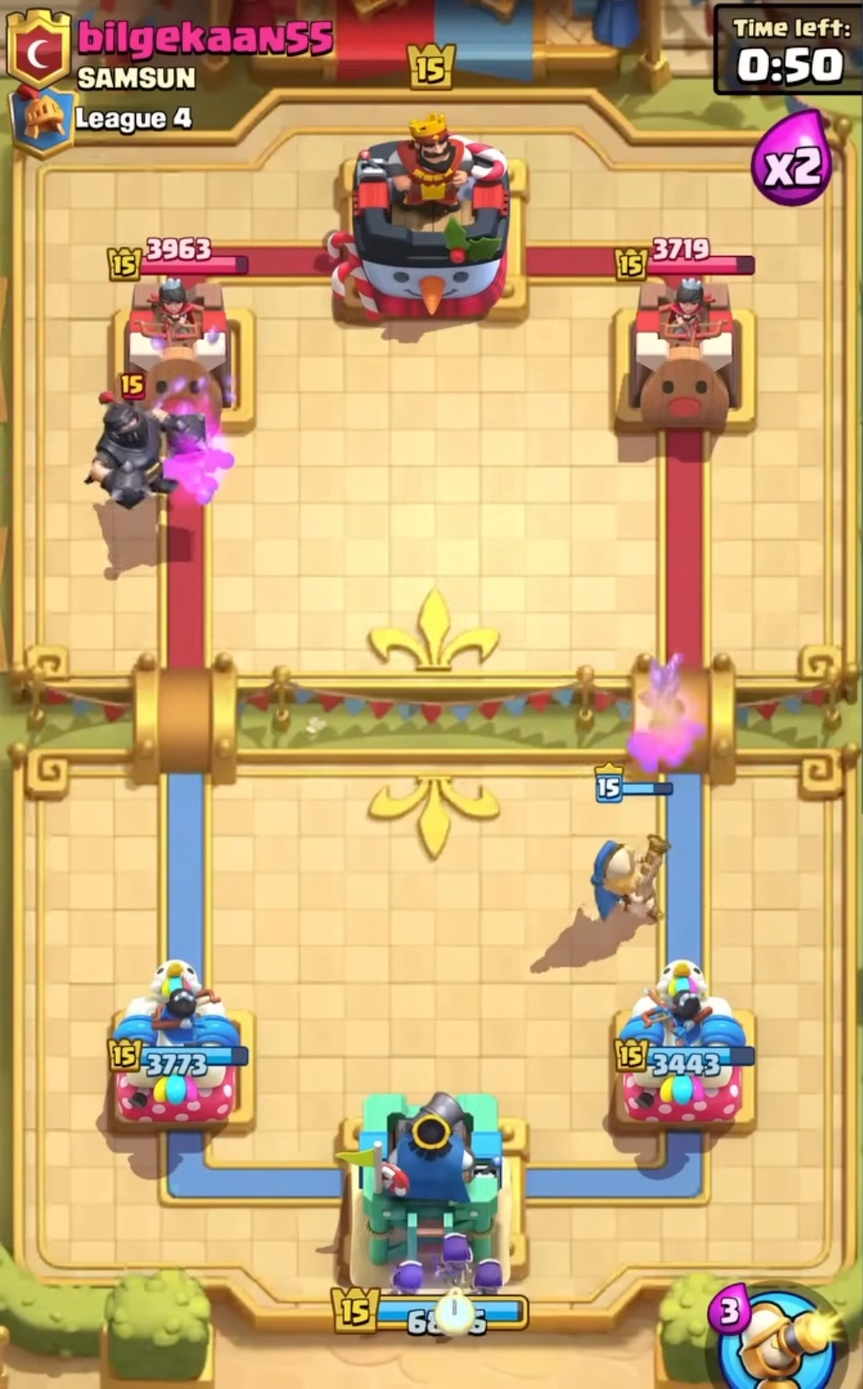evo-skeleton: (430, 1229, 478, 1291), (385, 1250, 428, 1319), (468, 1254, 510, 1309)
hero-musketeer: (567, 754, 686, 944)
